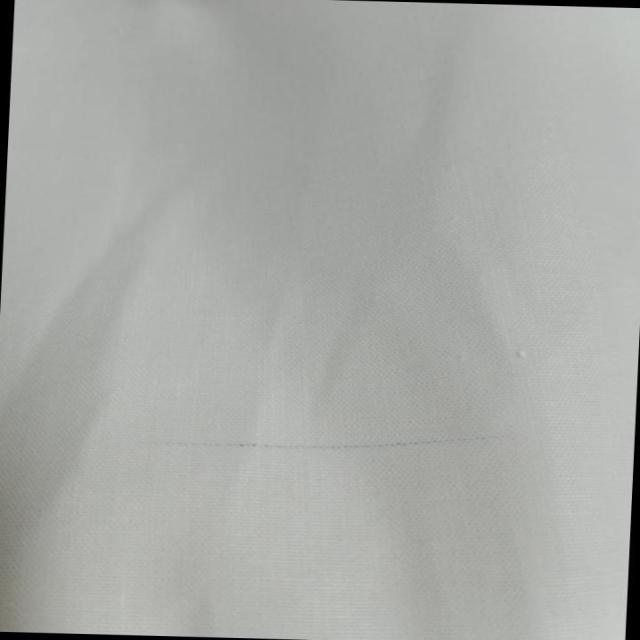contamination: (109, 415, 485, 472)
